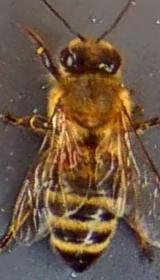varroa_mite: (39, 143, 85, 167)
